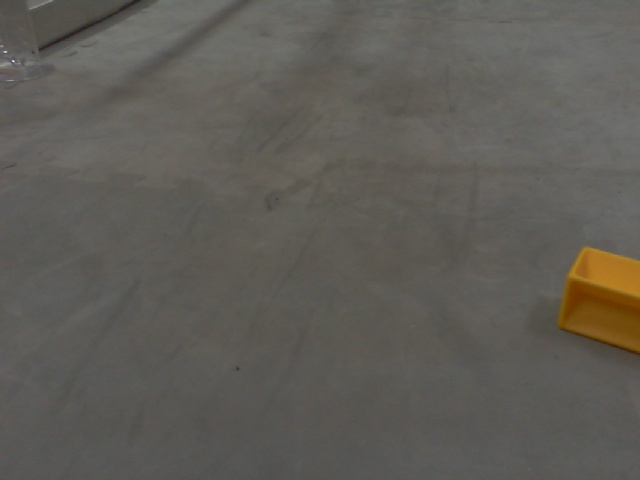YellowSample: (549, 240, 640, 358)
